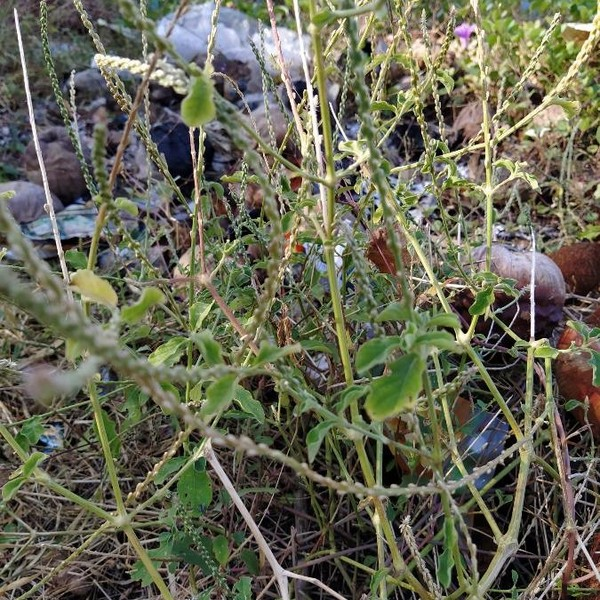obstacle: (66, 112, 544, 550)
